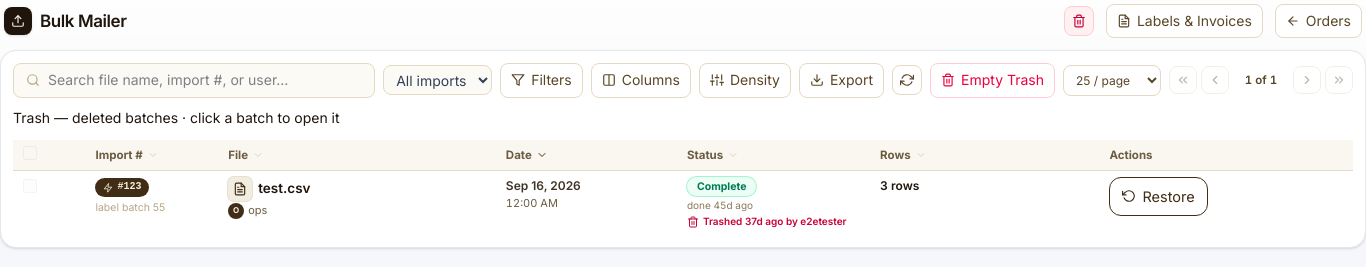
Test: Bulk Mailer — layout › an armed Empty Trash disarms on Escape without deleting anything
Click the button "Empty Trash" at (992, 80), box [930,63,1055,98]
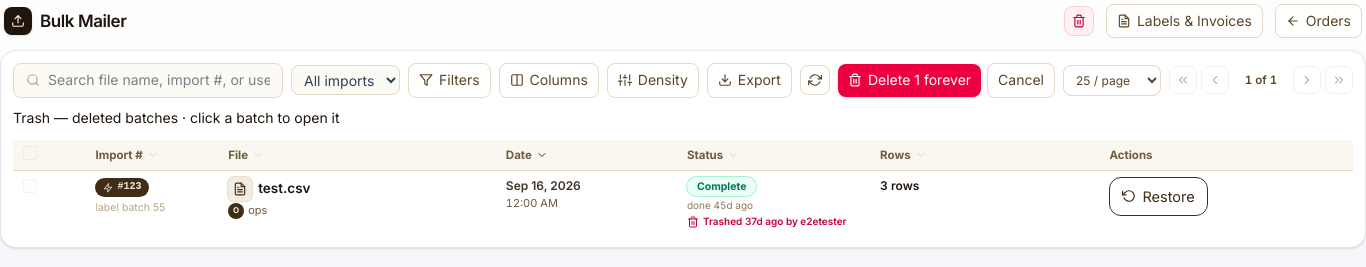
expect the button "Delete 1 forever" is shown: met, box [838,64,981,97]
Press Escape
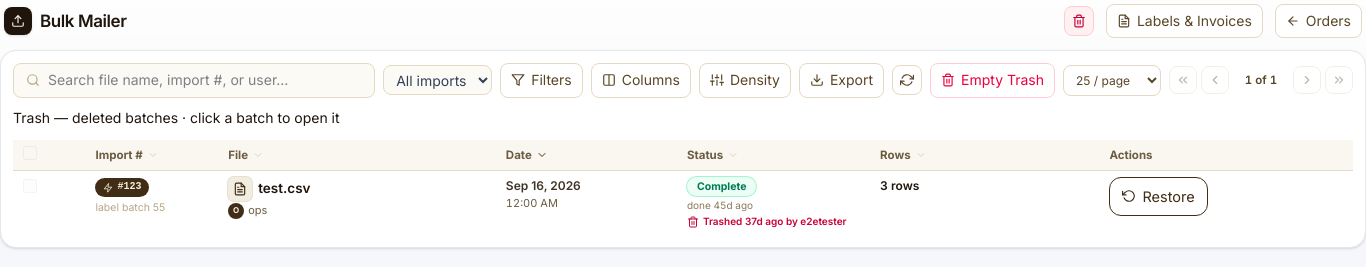
expect the button "Delete 1 forever" is gone: met
expect the button "Empty Trash" is shown: met, box [930,63,1055,98]
